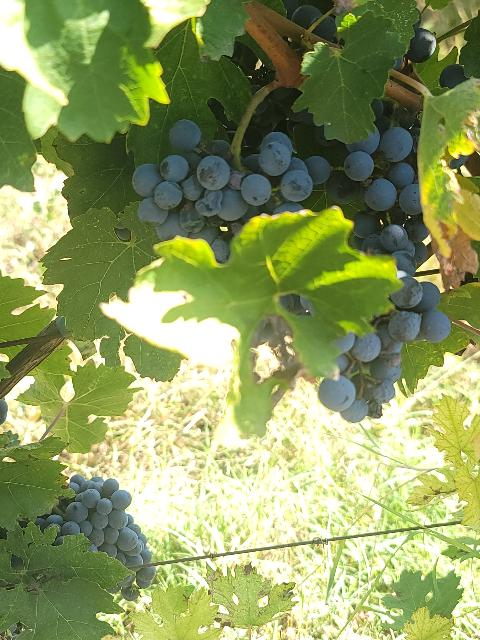grapes: (340, 126, 451, 408), (132, 119, 332, 262), (35, 475, 155, 600), (320, 380, 369, 420)
